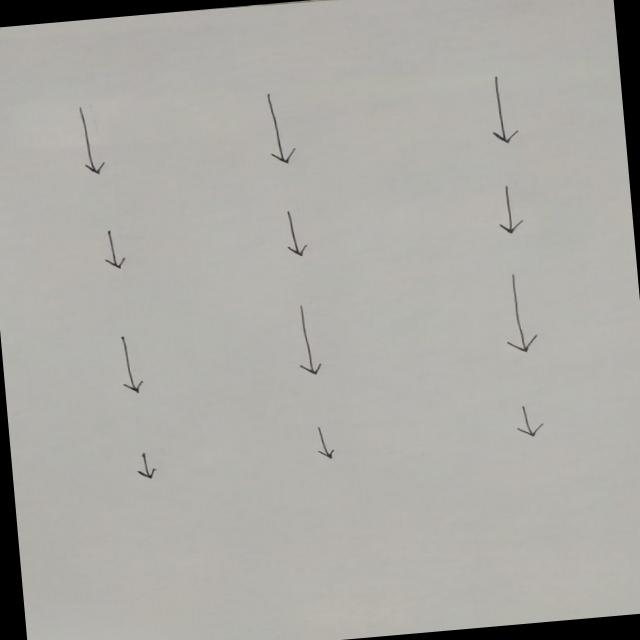arrow_line_down: (244, 84, 311, 172), (488, 262, 548, 359), (284, 296, 338, 382), (475, 68, 531, 150), (102, 328, 155, 402), (67, 99, 112, 180), (270, 201, 318, 266), (488, 179, 530, 243), (92, 223, 140, 277), (506, 399, 549, 442), (304, 420, 340, 466), (128, 446, 164, 486)
